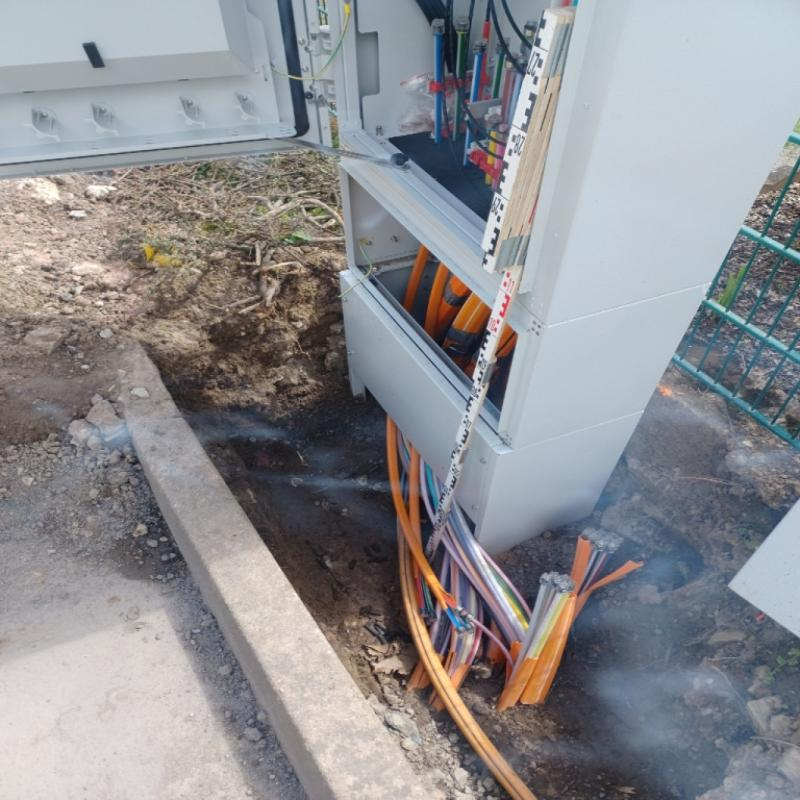NT-Gehause: (0, 0, 798, 446)
Orang-Speednetrohrchen: (498, 529, 628, 710)
